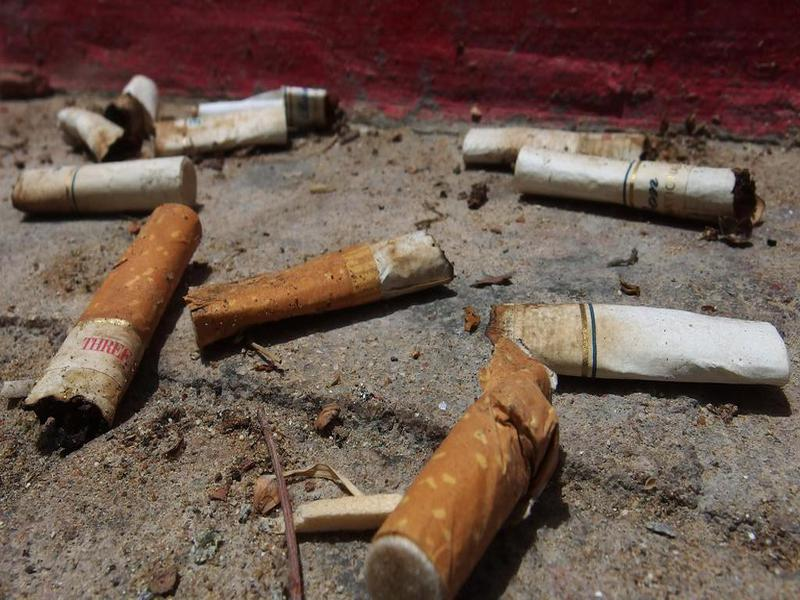burned_cigarette: (348, 353, 570, 600), (10, 201, 206, 422), (183, 219, 460, 340), (485, 296, 794, 395), (516, 144, 762, 224), (9, 144, 194, 210), (459, 115, 655, 170), (150, 93, 292, 158)
